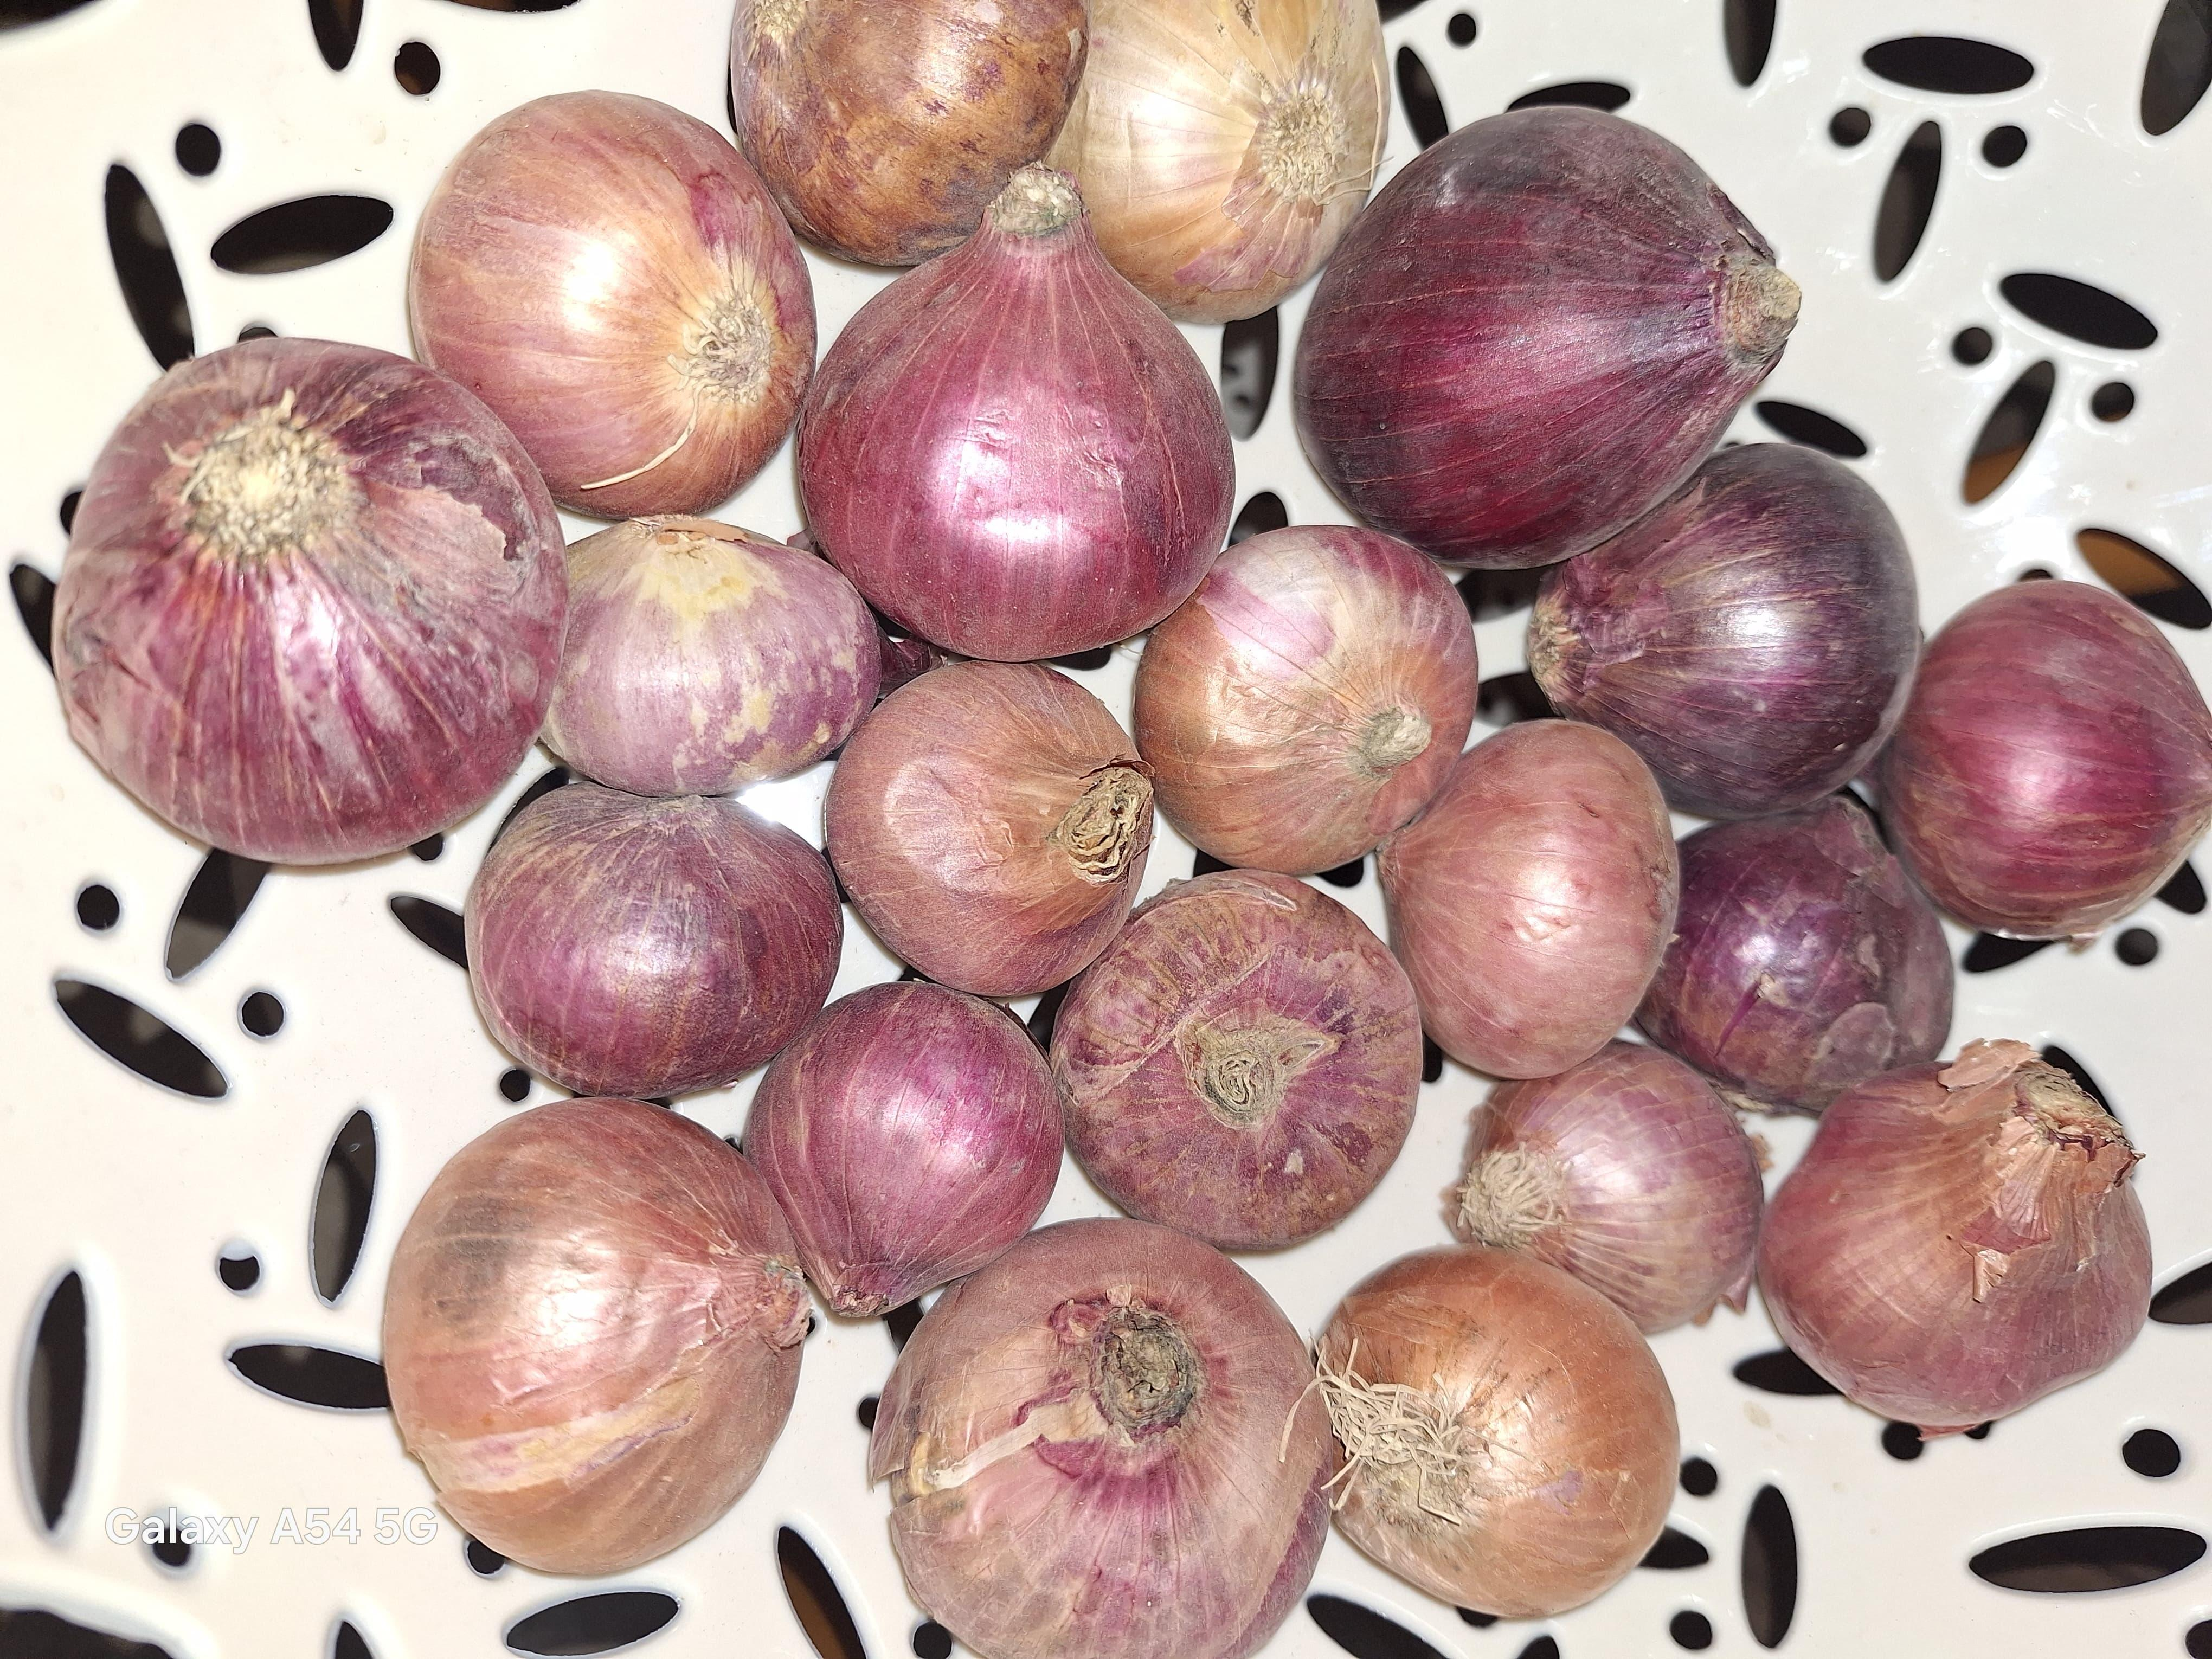non-mango: (64, 12, 2212, 1633)
